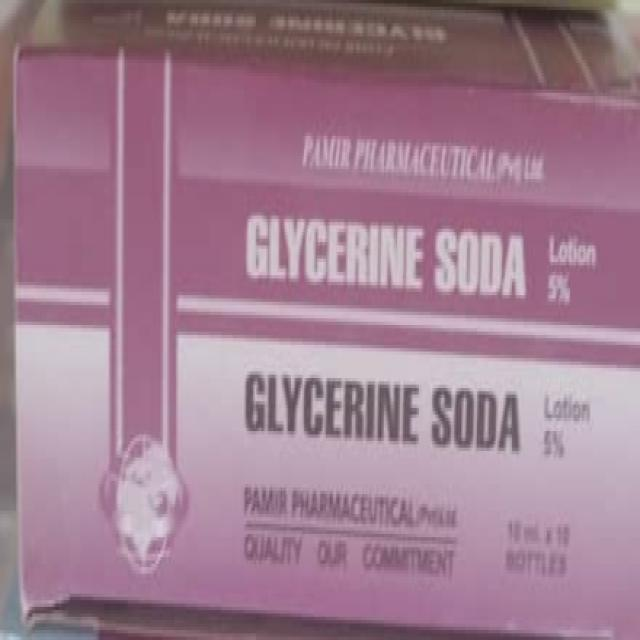drug-name: (246, 202, 532, 310)
